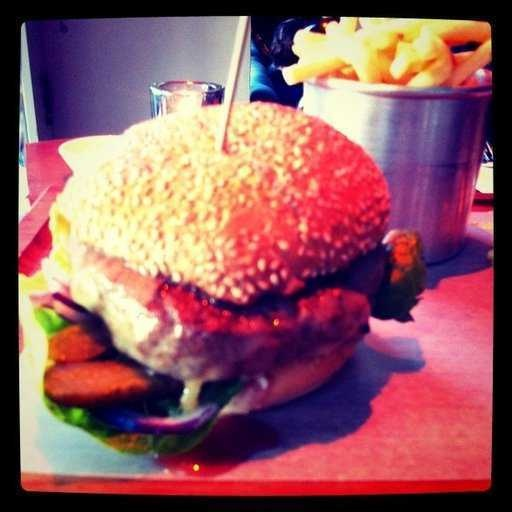hamburger: (17, 88, 431, 444)
